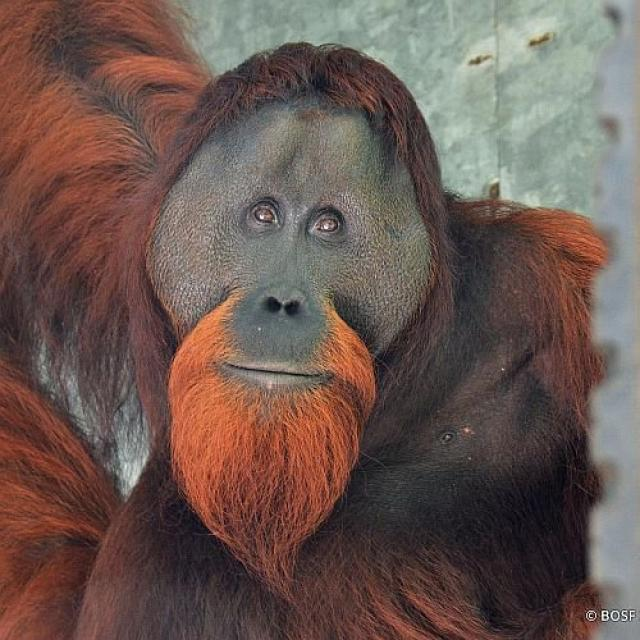Orangutan: (0, 0, 585, 640)
